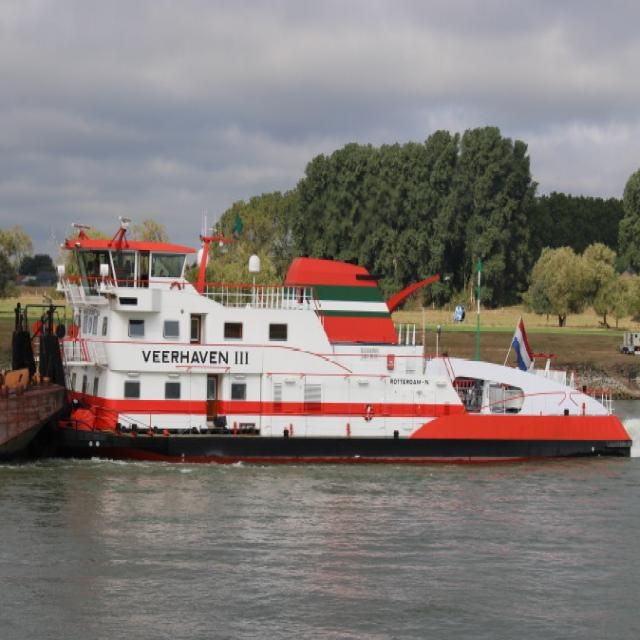tugboat: (11, 207, 638, 475)
